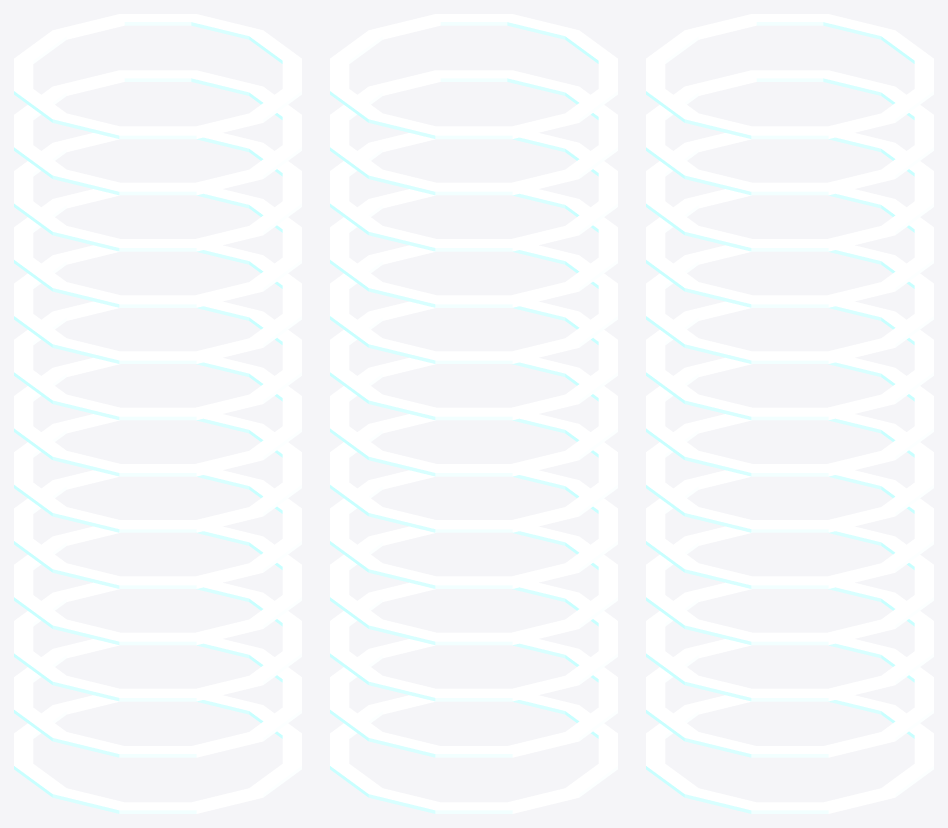
Rendered from hall_ov_shaft.glb.
3 renders of one model, left to right at view 1: azimuth 30°, elevation 25°; view 2: azimuth 150°, elevation 25°; view 3: azimuth 270°, elevation 25°, orthographic.
Visible parts, largest first — view 1: hall_ov_shaft; view 2: hall_ov_shaft; view 3: hall_ov_shaft.
Boxes of the visible parts, bbox=[...] form: hall_ov_shaft: bbox=[14, 14, 301, 813]; hall_ov_shaft: bbox=[330, 14, 617, 813]; hall_ov_shaft: bbox=[646, 14, 933, 813].
Bounding box in the file's own units: 11.59 × 30.16 × 11.59.
